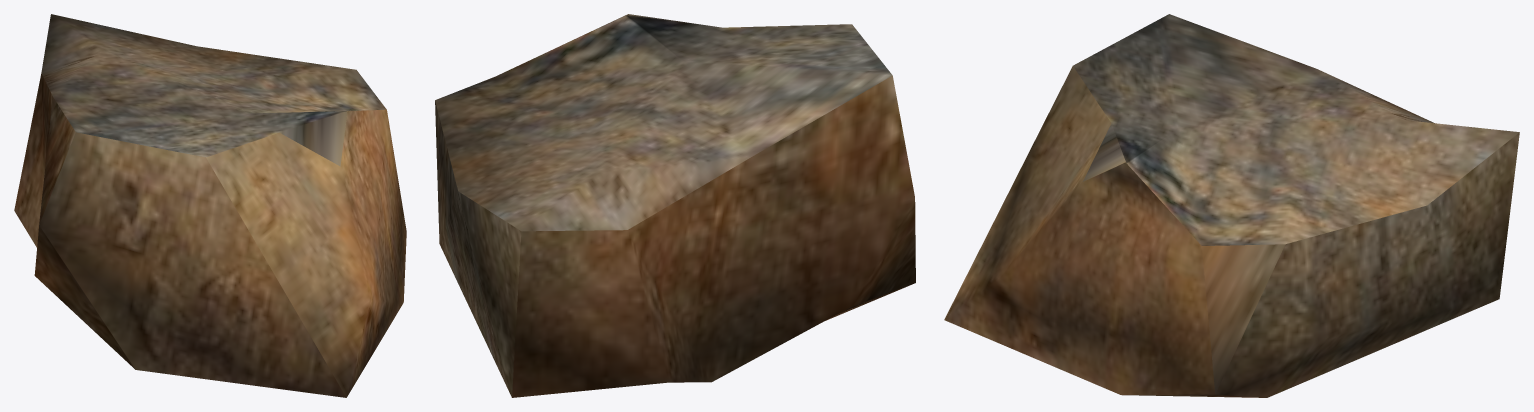
Rendered from rock_a_lod1.glb.
The picture shows the model from 3 angles, left to right: view 1: azimuth 30°, elevation 25°; view 2: azimuth 150°, elevation 25°; view 3: azimuth 270°, elevation 25°; orthographic projection. The views are drawn at different scales.
Parts seen in each view (by area): view 1: rock; view 2: rock; view 3: rock.
Part boxes in pixels (<box>): rock: <box>14,14,406,397</box>; rock: <box>435,14,915,397</box>; rock: <box>944,14,1519,397</box>.
Size of the model in its own units: 2.17 by 1.29 by 2.8.
Materials: 1 (1 with a texture image).
